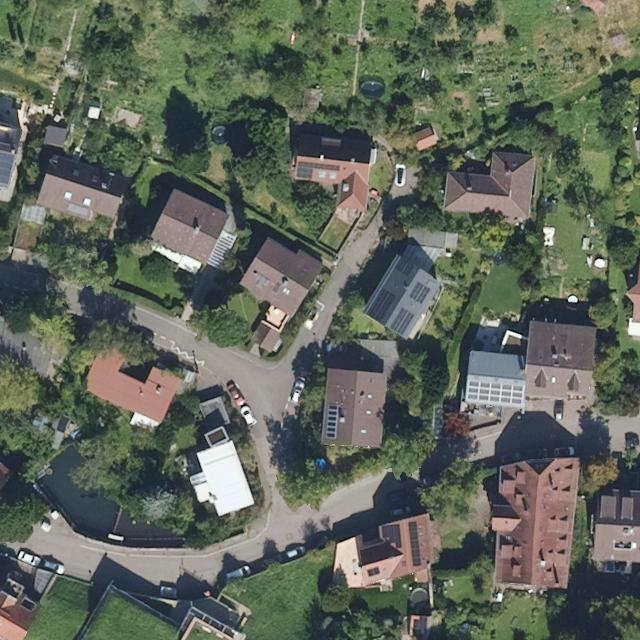PV: (466, 380, 525, 406), (366, 286, 397, 324), (296, 161, 341, 180), (389, 308, 415, 337), (408, 520, 421, 567), (408, 280, 431, 305), (325, 404, 340, 441), (382, 524, 402, 550), (395, 257, 416, 278), (66, 202, 90, 218), (367, 566, 381, 578)
